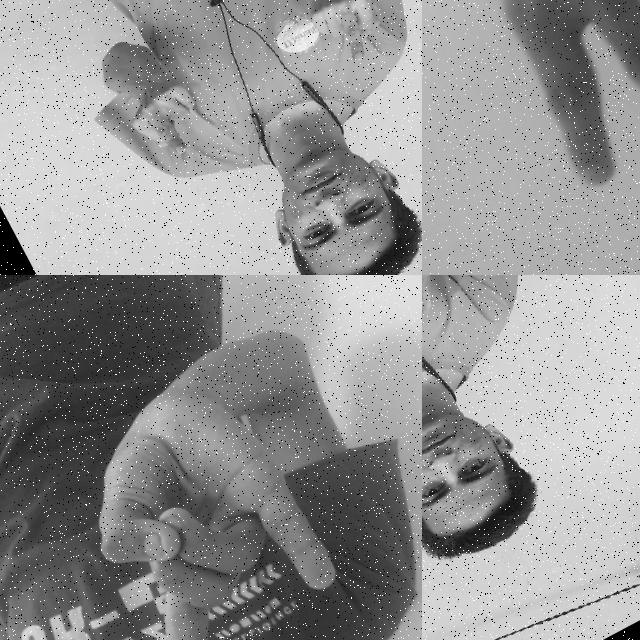Corna: (29, 338, 375, 640)
Middle Finger: (100, 46, 224, 178), (287, 0, 404, 82)
Okay: (422, 275, 470, 371)
Reversed Victory: (422, 0, 640, 230)
